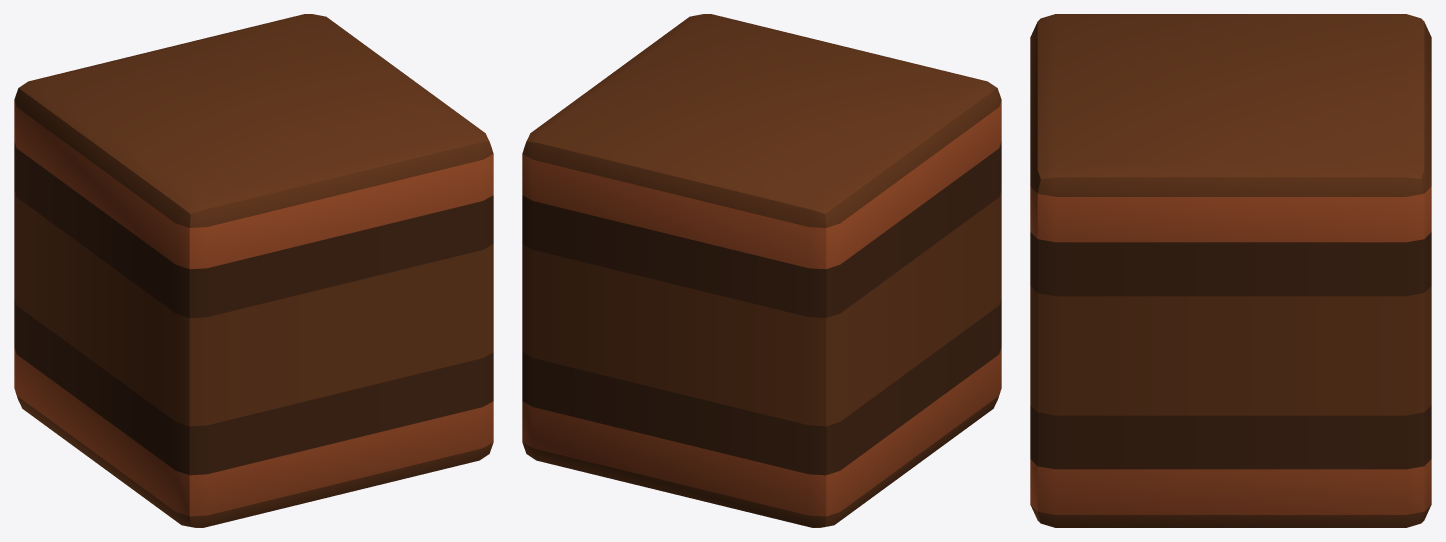
The model's file is Cube_Dirt_Single.obj.
The picture shows the model from 3 angles, left to right: view 1: azimuth 30°, elevation 25°; view 2: azimuth 150°, elevation 25°; view 3: azimuth 270°, elevation 25°; orthographic projection. The views are drawn at different scales.
Parts seen in each view (by area): view 1: Cube_Dirt_Single_Cube.045; view 2: Cube_Dirt_Single_Cube.045; view 3: Cube_Dirt_Single_Cube.045.
Boxes of the visible parts, left/top/right/bottom form: Cube_Dirt_Single_Cube.045: left=14, top=14, right=493, bottom=527; Cube_Dirt_Single_Cube.045: left=522, top=14, right=1001, bottom=527; Cube_Dirt_Single_Cube.045: left=1030, top=14, right=1431, bottom=527.
Size of the model in its own units: 2 by 2 by 2.
